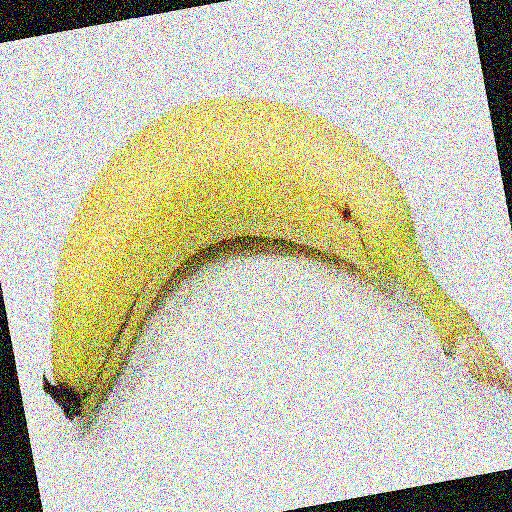fruit: (430, 171, 512, 474)
